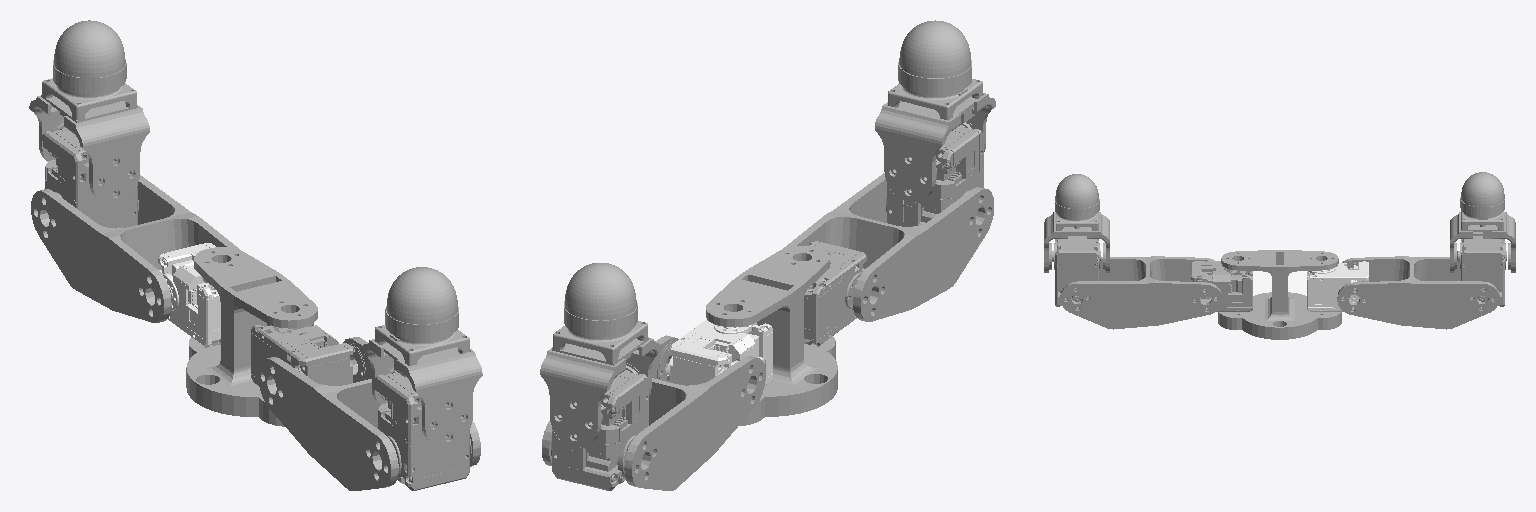
URDF robot description (DT_gripper):
<?xml version="1.0" encoding="utf-8"?>
<!-- This URDF was automatically created by SolidWorks to URDF Exporter! Originally created by [author] ([email redacted]) 
     Commit Version: 1.6.0-4-g7f85cfe  Build Version: 1.6.7995.38578
     For more information, please see http://wiki.ros.org/sw_urdf_exporter -->
<robot
  name="DT_gripper">
  <link
    name="Link_1">
    <inertial>
      <origin
        xyz="0 -6.93889390390723E-18 0.0150172297115083"
        rpy="0 0 0" />
      <mass
        value="0.035" />
      <inertia
        ixx="3.82502607446515E-05"
        ixy="5.63004985316599E-13"
        ixz="1.38024178340574E-21"
        iyy="2.55682822465902E-05"
        iyz="-2.99181481392226E-21"
        izz="3.01786195512601E-05" />
    </inertial>
    <visual>
      <origin
        xyz="0 0 0"
        rpy="0 0 0" />
      <geometry>
        <mesh
          filename="package://DT_gripper/meshes/Link_1.STL" />
      </geometry>
      <material
        name="">
        <color
          rgba="0.752941176470588 0.752941176470588 0.752941176470588 1" />
      </material>
    </visual>
    <collision>
      <origin
        xyz="0 0 0"
        rpy="0 0 0" />
      <geometry>
        <mesh
          filename="package://DT_gripper/meshes/Link_1.STL" />
      </geometry>
    </collision>
  </link>
  <link
    name="Link_2">
    <inertial>
      <origin
        xyz="0.000133911513531482 0.0308660885322123 0.0108576264680072"
        rpy="0 0 0" />
      <mass
        value="0.105" />
      <inertia
        ixx="0.00551557251148511"
        ixy="-3.2539665913117E-06"
        ixz="-5.9948811830428E-08"
        iyy="0.00037706444753596"
        iyz="-5.19397616561902E-06"
        izz="0.00526985090101087" />
    </inertial>
    <visual>
      <origin
        xyz="0 0 0"
        rpy="0 0 0" />
      <geometry>
        <mesh
          filename="package://DT_gripper/meshes/Link_2.STL" />
      </geometry>
      <material
        name="">
        <color
          rgba="0.752941176470588 0.752941176470588 0.752941176470588 1" />
      </material>
    </visual>
    <collision>
      <origin
        xyz="0 0 0"
        rpy="0 0 0" />
      <geometry>
        <mesh
          filename="package://DT_gripper/meshes/Link_2.STL" />
      </geometry>
    </collision>
  </link>
  <joint
    name="Joint_1"
    type="continuous">
    <origin
      xyz="0 -0.031 0.029"
      rpy="0 0 0" />
    <parent
      link="Link_1" />
    <child
      link="Link_2" />
    <axis
      xyz="0 0 1" />
  </joint>
  <link
    name="Link_3">
    <inertial>
      <origin
        xyz="-6.6959E-10 -0.047312 -0.003167"
        rpy="0 0 0" />
      <mass
        value="0.032" />
      <inertia
        ixx="3.0041E-05"
        ixy="3.5933E-13"
        ixz="2.5652E-13"
        iyy="1.7697E-05"
        iyz="-2.3365E-07"
        izz="4.1102E-05" />
    </inertial>
    <visual>
      <origin
        xyz="0 0 0"
        rpy="0 0 0" />
      <geometry>
        <mesh
          filename="package://DT_gripper/meshes/Link_3.STL" />
      </geometry>
      <material
        name="">
        <color
          rgba="0.75294 0.75294 0.75294 1" />
      </material>
    </visual>
    <collision>
      <origin
        xyz="0 0 0"
        rpy="0 0 0" />
      <geometry>
        <mesh
          filename="package://DT_gripper/meshes/Link_3.STL" />
      </geometry>
    </collision>
  </link>
  <joint
    name="Joint_2"
    type="continuous">
    <origin
      xyz="0 -0.024 0"
      rpy="0 0 0" />
    <parent
      link="Link_2" />
    <child
      link="Link_3" />
    <axis
      xyz="1 0 0" />
  </joint>
  <link
    name="Link_4">
    <inertial>
      <origin
        xyz="0.00013391 0.15039 0.010104"
        rpy="0 0 0" />
      <mass
        value="0.105" />
      <inertia
        ixx="0.0055156"
        ixy="-3.254E-06"
        ixz="-5.9949E-08"
        iyy="0.00037706"
        iyz="-5.194E-06"
        izz="0.0052699" />
    </inertial>
    <visual>
      <origin
        xyz="0 0 0"
        rpy="0 0 0" />
      <geometry>
        <mesh
          filename="package://DT_gripper/meshes/Link_4.STL" />
      </geometry>
      <material
        name="">
        <color
          rgba="0.75294 0.75294 0.75294 1" />
      </material>
    </visual>
    <collision>
      <origin
        xyz="0 0 0"
        rpy="0 0 0" />
      <geometry>
        <mesh
          filename="package://DT_gripper/meshes/Link_4.STL" />
      </geometry>
    </collision>
  </link>
  <joint
    name="Joint_3"
    type="continuous">
    <origin
      xyz="0 -0.095522 0.000754"
      rpy="0 0 0" />
    <parent
      link="Link_3" />
    <child
      link="Link_4" />
    <axis
      xyz="1 0 0" />
  </joint>
  <link
    name="Grip_1">
    <inertial>
      <origin
        xyz="-1.87532538448026E-05 -1.46755248142255E-05 0.0353004822904477"
        rpy="0 0 0" />
      <mass
        value="0.065" />
      <inertia
        ixx="7.7154399626129E-06"
        ixy="2.6075628479324E-10"
        ixz="1.58733850084192E-09"
        iyy="4.43641994241611E-06"
        iyz="1.64596780856448E-10"
        izz="7.87085677073128E-06" />
    </inertial>
    <visual>
      <origin
        xyz="0 0 0"
        rpy="0 0 0" />
      <geometry>
        <mesh
          filename="package://DT_gripper/meshes/Grip_1.STL" />
      </geometry>
      <material
        name="">
        <color
          rgba="0.752941176470588 0.752941176470588 0.752941176470588 1" />
      </material>
    </visual>
    <collision>
      <origin
        xyz="0 0 0"
        rpy="0 0 0" />
      <geometry>
        <mesh
          filename="package://DT_gripper/meshes/Grip_1.STL" />
      </geometry>
    </collision>
  </link>
  <joint
    name="Joint_4"
    type="continuous">
    <origin
      xyz="0 0 0.024"
      rpy="0 0 0" />
    <parent
      link="Link_4" />
    <child
      link="Grip_1" />
    <axis
      xyz="0 1 0" />
  </joint>
  <link
    name="Link_5">
    <inertial>
      <origin
        xyz="0 0 0"
        rpy="0 0 0" />
      <mass
        value="0.105" />
      <inertia
        ixx="0.00551557251148511"
        ixy="-3.2539665913117E-06"
        ixz="5.9948811830428E-08"
        iyy="0.00037706444753596"
        iyz="5.19397616561902E-06"
        izz="0.00526985090101087" />
    </inertial>
    <visual>
      <origin
        xyz="0 0 0"
        rpy="0 0 0" />
      <geometry>
        <mesh
          filename="package://DT_gripper/meshes/Link_5.STL" />
      </geometry>
      <material
        name="">
        <color
          rgba="1 1 1 1" />
      </material>
    </visual>
    <collision>
      <origin
        xyz="0 0 0"
        rpy="0 0 0" />
      <geometry>
        <mesh
          filename="package://DT_gripper/meshes/Link_5.STL" />
      </geometry>
    </collision>
  </link>
  <joint
    name="Joint_5"
    type="continuous">
    <origin
      xyz="0 0.031 0.029"
      rpy="0 0 0" />
    <parent
      link="Link_1" />
    <child
      link="Link_5" />
    <axis
      xyz="0 0 1" />
  </joint>
  <link
    name="Link_6">
    <inertial>
      <origin
        xyz="6.69590480284477E-10 0.047312259543009 -0.00316696601621572"
        rpy="0 0 0" />
      <mass
        value="0.032" />
      <inertia
        ixx="3.00405223867073E-05"
        ixy="3.59327904026506E-13"
        ixz="-2.56522219181268E-13"
        iyy="1.76968982571648E-05"
        iyz="2.33648286999841E-07"
        izz="4.11020098914542E-05" />
    </inertial>
    <visual>
      <origin
        xyz="0 0 0"
        rpy="0 0 0" />
      <geometry>
        <mesh
          filename="package://DT_gripper/meshes/Link_6.STL" />
      </geometry>
      <material
        name="">
        <color
          rgba="0.752941176470588 0.752941176470588 0.752941176470588 1" />
      </material>
    </visual>
    <collision>
      <origin
        xyz="0 0 0"
        rpy="0 0 0" />
      <geometry>
        <mesh
          filename="package://DT_gripper/meshes/Link_6.STL" />
      </geometry>
    </collision>
  </link>
  <joint
    name="Joint_6"
    type="continuous">
    <origin
      xyz="0 0.024 0"
      rpy="0 0 0" />
    <parent
      link="Link_5" />
    <child
      link="Link_6" />
    <axis
      xyz="1 0 0" />
  </joint>
  <link
    name="Link_7">
    <inertial>
      <origin
        xyz="0.000133910925717962 -0.150655801871864 0.0101036224635462"
        rpy="0 0 0" />
      <mass
        value="0.105" />
      <inertia
        ixx="0.00551557251148511"
        ixy="-3.2539665913117E-06"
        ixz="-5.99488118303941E-08"
        iyy="0.00037706444753596"
        iyz="-5.19397616561914E-06"
        izz="0.00526985090101087" />
    </inertial>
    <visual>
      <origin
        xyz="0 0 0"
        rpy="0 0 0" />
      <geometry>
        <mesh
          filename="package://DT_gripper/meshes/Link_7.STL" />
      </geometry>
      <material
        name="">
        <color
          rgba="0.752941176470588 0.752941176470588 0.752941176470588 1" />
      </material>
    </visual>
    <collision>
      <origin
        xyz="0 0 0"
        rpy="0 0 0" />
      <geometry>
        <mesh
          filename="package://DT_gripper/meshes/Link_7.STL" />
      </geometry>
    </collision>
  </link>
  <joint
    name="Joint_7"
    type="continuous">
    <origin
      xyz="0 0.095522 0.000754"
      rpy="0 0 0" />
    <parent
      link="Link_6" />
    <child
      link="Link_7" />
    <axis
      xyz="1 0 0" />
  </joint>
  <link
    name="Grip_2">
    <inertial>
      <origin
        xyz="1.87532538436924E-05 1.46755248140451E-05 0.0363332648225437"
        rpy="0 0 0" />
      <mass
        value="0.065" />
      <inertia
        ixx="7.71543996261288E-06"
        ixy="2.60756284790869E-10"
        ixz="-1.58733850085364E-09"
        iyy="4.43641994241609E-06"
        iyz="-1.64596780858671E-10"
        izz="7.87085677073125E-06" />
    </inertial>
    <visual>
      <origin
        xyz="0 0 0"
        rpy="0 0 0" />
      <geometry>
        <mesh
          filename="package://DT_gripper/meshes/Grip_2.STL" />
      </geometry>
      <material
        name="">
        <color
          rgba="0.752941176470588 0.752941176470588 0.752941176470588 1" />
      </material>
    </visual>
    <collision>
      <origin
        xyz="0 0 0"
        rpy="0 0 0" />
      <geometry>
        <mesh
          filename="package://DT_gripper/meshes/Grip_2.STL" />
      </geometry>
    </collision>
  </link>
  <joint
    name="Joint_8"
    type="continuous">
    <origin
      xyz="0 0 0.024"
      rpy="0 0 0" />
    <parent
      link="Link_7" />
    <child
      link="Grip_2" />
    <axis
      xyz="0 1 0" />
  </joint>
</robot>

--- Facts derived from the render (not from the file) ---
Views: 3 orthographic renders of the robot side by side, from view 1: azimuth 30°, elevation 25°; view 2: azimuth 150°, elevation 25°; view 3: azimuth 270°, elevation 25°.
Model DT_gripper with 9 links and 8 joints (8 continuous), rooted at Link_1, posed every joint at zero.
Visible links, largest first — view 1: Link_6, Grip_2, Grip_1, Link_1, Link_3, Link_4, Link_2, Link_7, Link_5; view 2: Link_3, Grip_2, Grip_1, Link_1, Link_6, Link_7, Link_5, Link_4, Link_2; view 3: Link_6, Link_3, Link_1, Grip_2, Grip_1, Link_4, Link_7, Link_2, Link_5.
Link boxes in pixels (<box>): Link_6: <box>31,175,239,322</box>; Grip_2: <box>29,20,149,203</box>; Grip_1: <box>362,267,482,446</box>; Link_1: <box>186,247,317,426</box>; Link_3: <box>258,337,480,490</box>; Link_4: <box>374,371,469,490</box>; Link_2: <box>251,323,353,385</box>; Link_7: <box>42,127,137,228</box>; Link_5: <box>158,243,220,346</box>; Link_3: <box>783,173,993,321</box>; Grip_2: <box>540,263,660,446</box>; Grip_1: <box>875,20,995,201</box>; Link_1: <box>706,246,837,425</box>; Link_6: <box>542,335,765,490</box>; Link_7: <box>552,370,648,490</box>; Link_5: <box>666,319,772,385</box>; Link_4: <box>887,125,983,226</box>; Link_2: <box>804,241,866,345</box>; Link_6: <box>1337,256,1499,329</box>; Link_3: <box>1060,256,1222,329</box>; Link_1: <box>1218,250,1341,339</box>; Grip_2: <box>1450,172,1515,272</box>; Grip_1: <box>1044,174,1109,272</box>; Link_4: <box>1052,236,1100,306</box>; Link_7: <box>1457,236,1506,306</box>; Link_2: <box>1191,261,1252,311</box>; Link_5: <box>1307,261,1368,311</box>.
Bounding box of the posed robot: 0.063 × 0.3495 × 0.1236 m (x, y, z).
9 mesh visuals loaded from 9 distinct referenced files (9 binary STL).